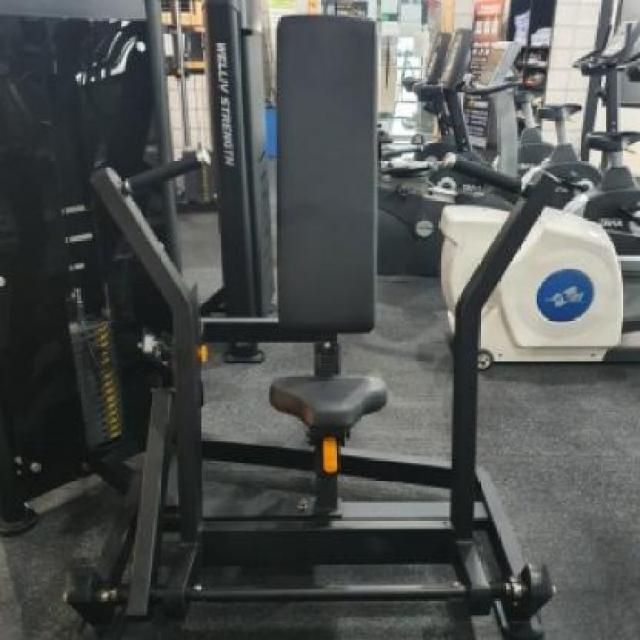Chest Press machine: (9, 0, 577, 640)
